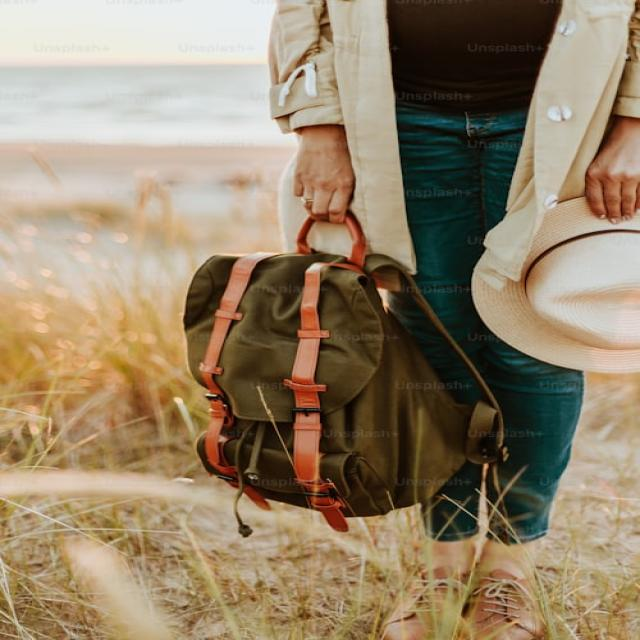backpack: (182, 203, 507, 526)
